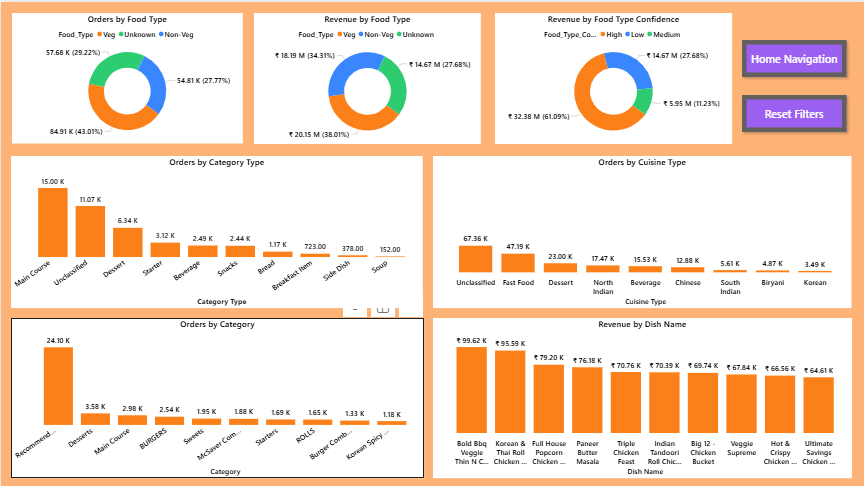

This screenshot's page, from the dashboard's own definition file:
{"tool":"powerbi","page":{"name":"Food & Cuisine Insights","canvas":[1920,1080],"ordinal":2},"visuals":[{"type":"donutChart","title":"Orders by Food Type","fields":{"Category":["dim_dish.Food_Type"],"Y":["fact_swiggy_orders.Total Orders"]},"box":[25,25,512.5,290],"z":0},{"type":"clusteredColumnChart","title":"Orders by Category","fields":{"Category":["dim_category.Category"],"Y":["fact_swiggy_orders.Total Orders"]},"box":[22.2,702.2,917.8,355.6],"z":1000},{"type":"clusteredColumnChart","title":"Orders by Cuisine Type","fields":{"Y":["fact_swiggy_orders.Total Orders"],"Category":["dim_dish.Cuisine_Type"]},"box":[960,342.5,930,337.5],"z":2000},{"type":"clusteredColumnChart","title":"Revenue by Dish Name","fields":{"Y":["fact_swiggy_orders.Total Revenue"],"Category":["dim_dish.Dish_Name"]},"box":[960,702.2,931.1,355.6],"z":3000},{"type":"donutChart","title":"Revenue by Food Type","fields":{"Y":["fact_swiggy_orders.Total Revenue"],"Category":["dim_dish.Food_Type"]},"box":[562.2,24.4,504.4,291.1],"z":4000},{"type":"clusteredColumnChart","title":"Orders by Category Type","fields":{"Y":["fact_swiggy_orders.Total Orders"],"Category":["dim_dish.Category_Type"]},"box":[22.5,342.5,915,337.5],"z":5000},{"type":"donutChart","title":"Revenue by Food Type Confidence","fields":{"Y":["fact_swiggy_orders.Total Revenue"],"Category":["dim_dish.Food_Type_Confidence"]},"box":[1097.8,24.4,526.7,291.1],"z":6000},{"type":"actionButton","box":[1637.8,75.6,250,100],"z":7000},{"type":"actionButton","box":[1637.8,197.8,250,100],"z":13000}]}

Visuals, with their boxes in screenshot pixels (x1, y1, x2, y2), scaled from the page's 1920x1080 canvas onto the 864x486 screenshot:
"Orders by Food Type" donutChart: [11,11,242,142]
"Orders by Category" clusteredColumnChart: [10,316,423,476]
"Orders by Cuisine Type" clusteredColumnChart: [432,154,850,306]
"Revenue by Dish Name" clusteredColumnChart: [432,316,851,476]
"Revenue by Food Type" donutChart: [253,11,480,142]
"Orders by Category Type" clusteredColumnChart: [10,154,422,306]
"Revenue by Food Type Confidence" donutChart: [494,11,731,142]
actionButton: [737,34,850,79]
actionButton: [737,89,850,134]
